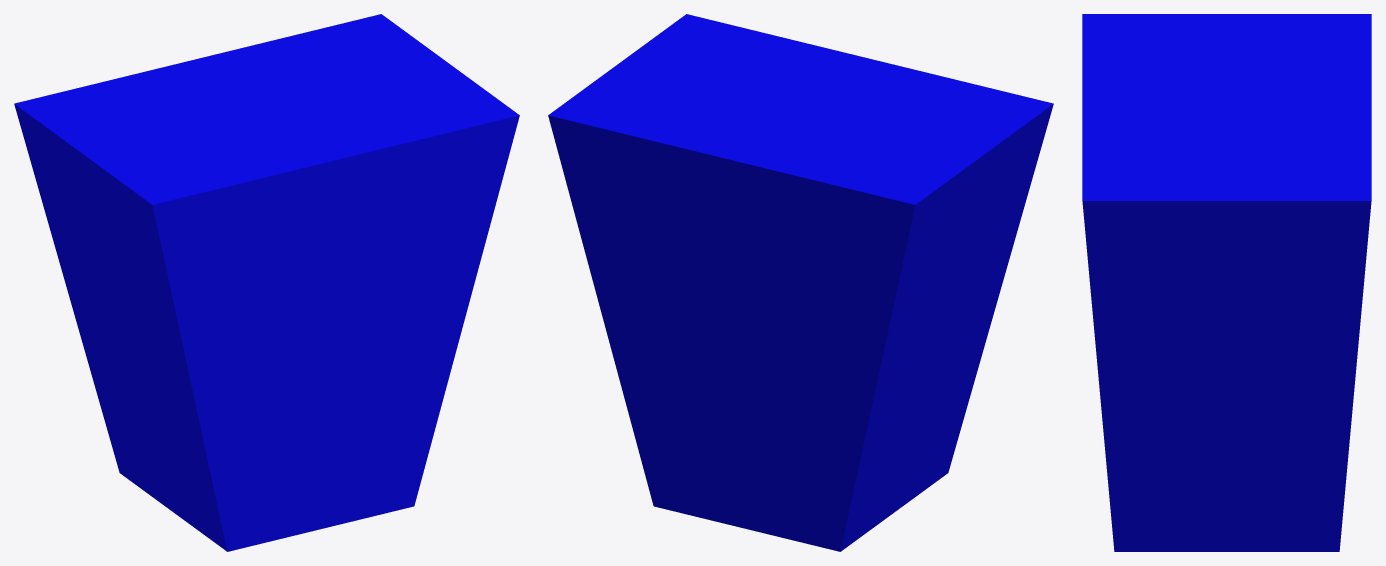
Rendered from phys_player_body_blue.glb.
3 renders of one model, left to right at view 1: azimuth 30°, elevation 25°; view 2: azimuth 150°, elevation 25°; view 3: azimuth 270°, elevation 25°, orthographic. The views are drawn at different scales.
Visible parts, largest first — view 1: Cube.001; view 2: Cube.001; view 3: Cube.001.
Boxes of the visible parts, left/top/right/bottom form: Cube.001: left=14, top=14, right=519, bottom=551; Cube.001: left=548, top=14, right=1053, bottom=551; Cube.001: left=1082, top=14, right=1371, bottom=551.
Bounding box in the file's own units: 3.27 × 3.23 × 2.13.
